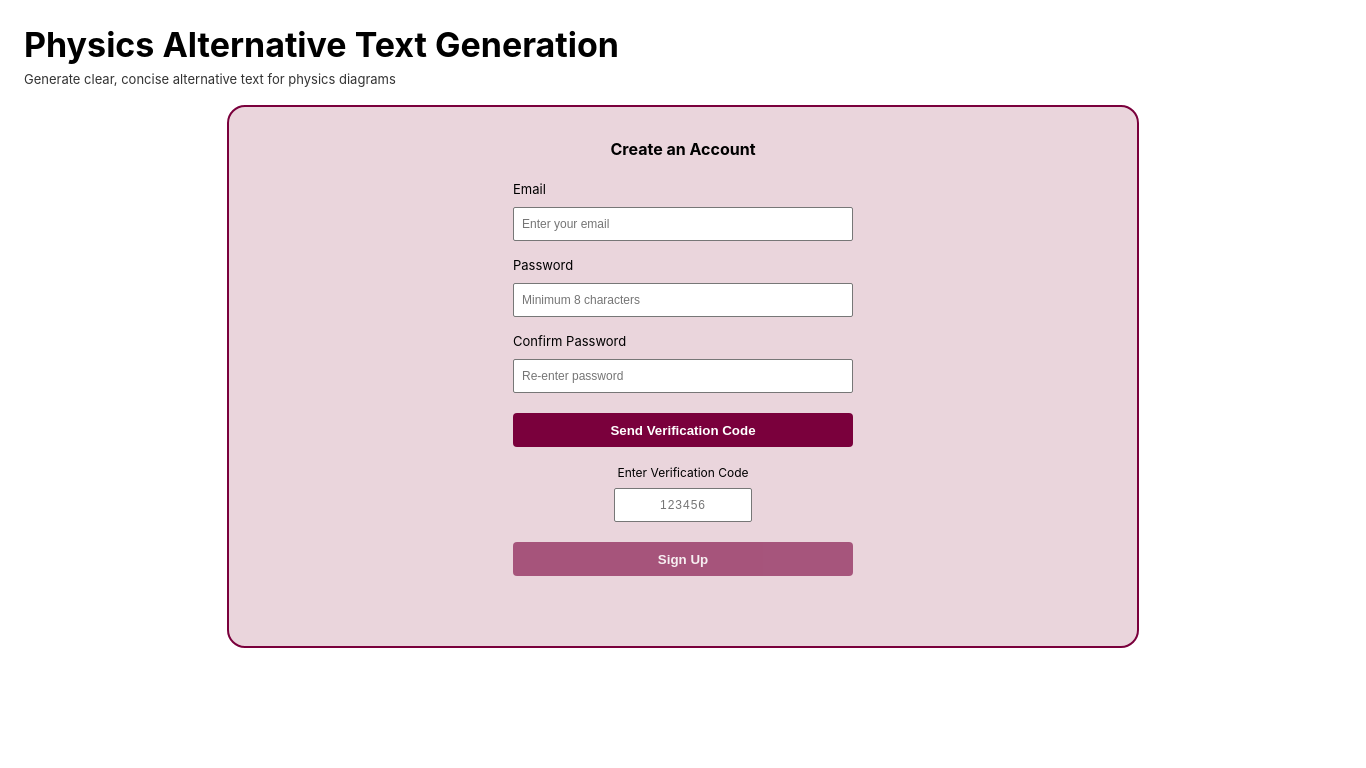
Test: SignUpScreen › shows error if password is too short
The width and height of the screenshot is (1366, 768).
In the field with placeholder "Enter your email": (683, 224) [513, 207, 853, 241], type "test@test.com"
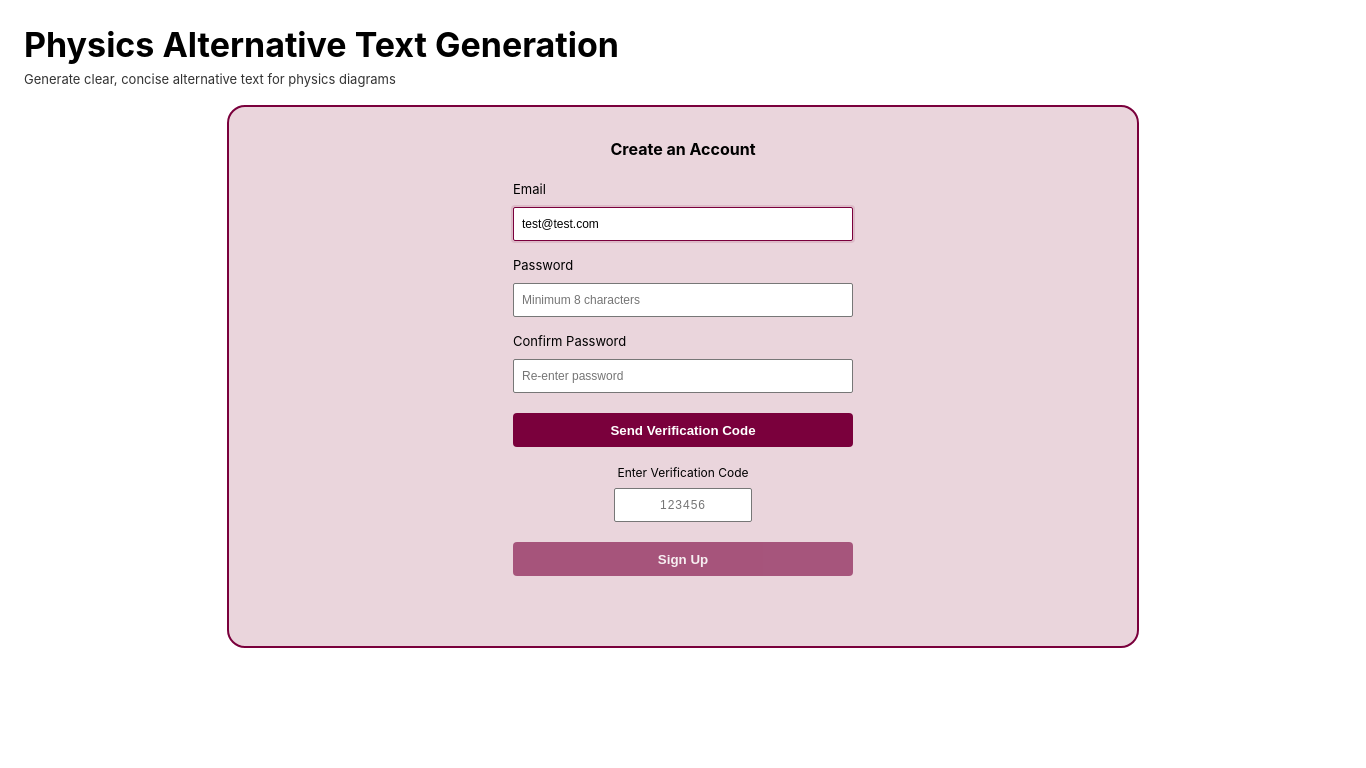
In the password field with placeholder "Minimum 8 characters": (683, 300) [513, 283, 853, 317], type "123"
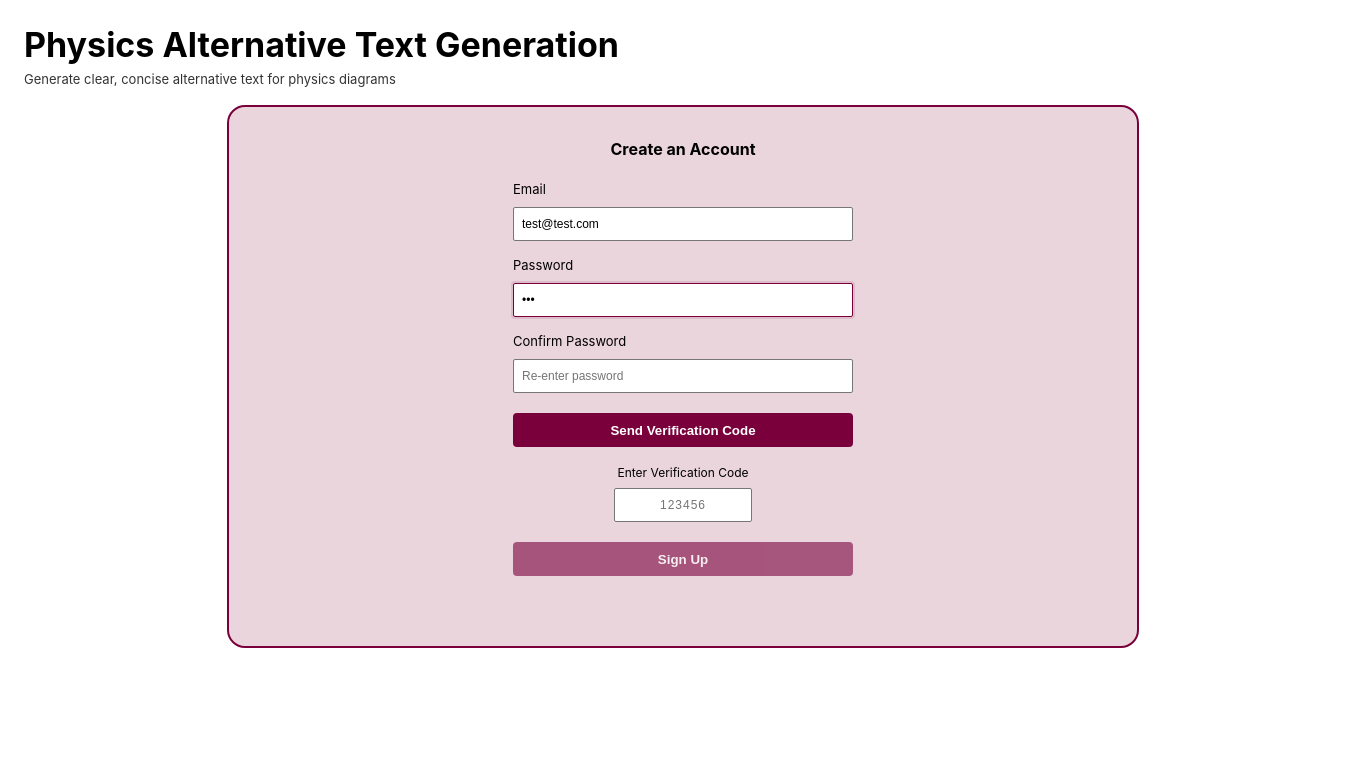
Click the button "Send Verification Code": (683, 430) [513, 413, 853, 447]
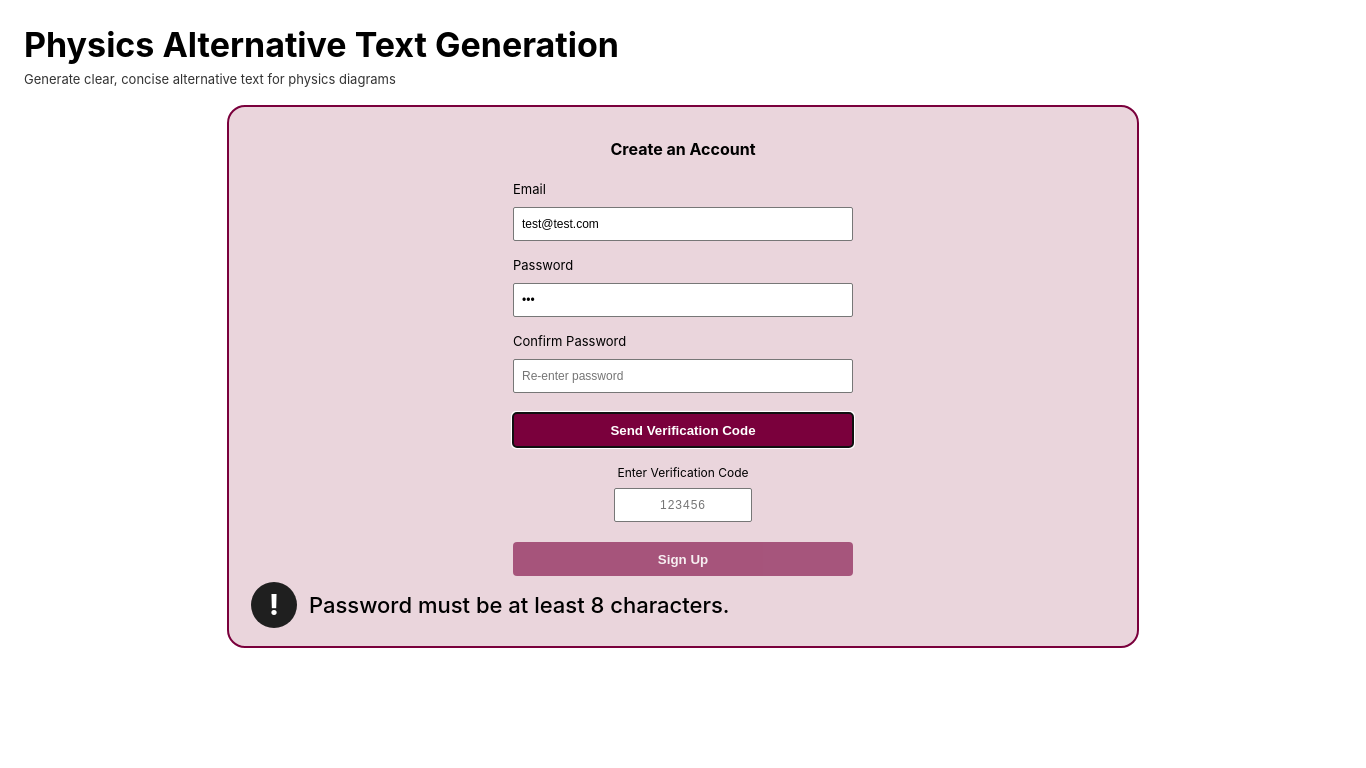
Expected: the text "Password must be at least 8 characters." is shown, [309, 592, 730, 618]
